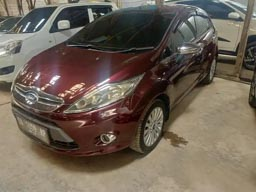plat: (15, 119, 49, 148)
